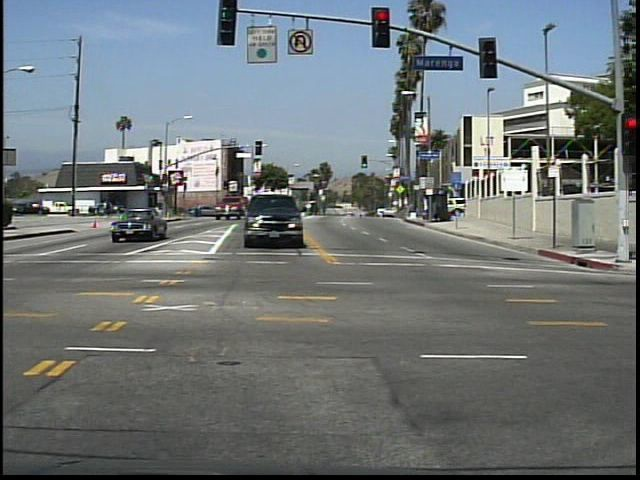person: (105, 197, 115, 223)
